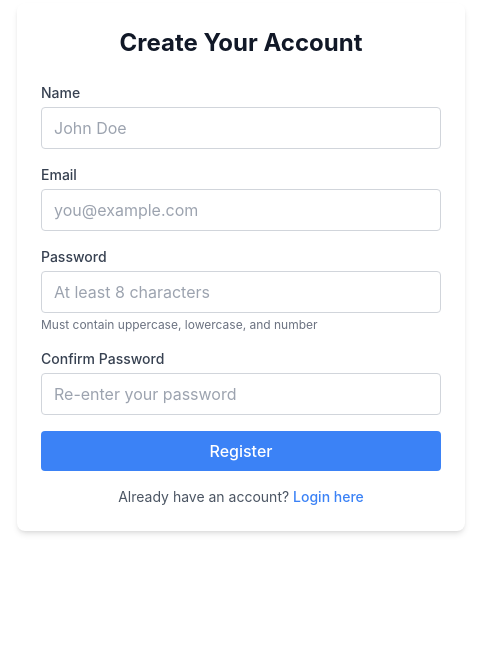
RegisterForm › validates name field is required
Click the button "Register" at (241, 451), box top-left (41, 431), bottom-right (441, 471)
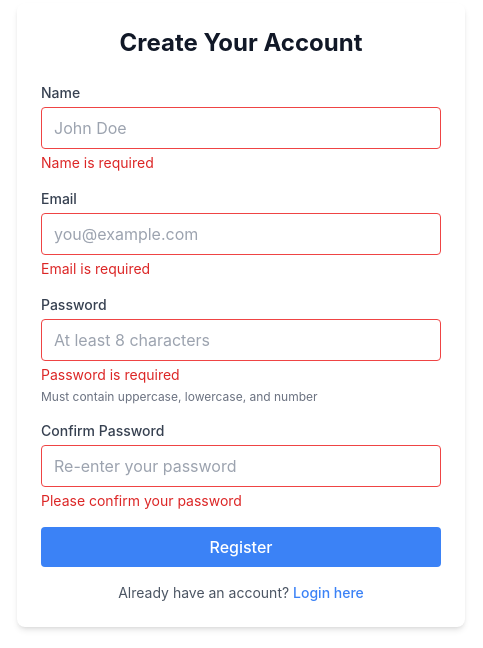
Expected: the text "Name is required" is shown, top-left (41, 154), bottom-right (154, 171)
